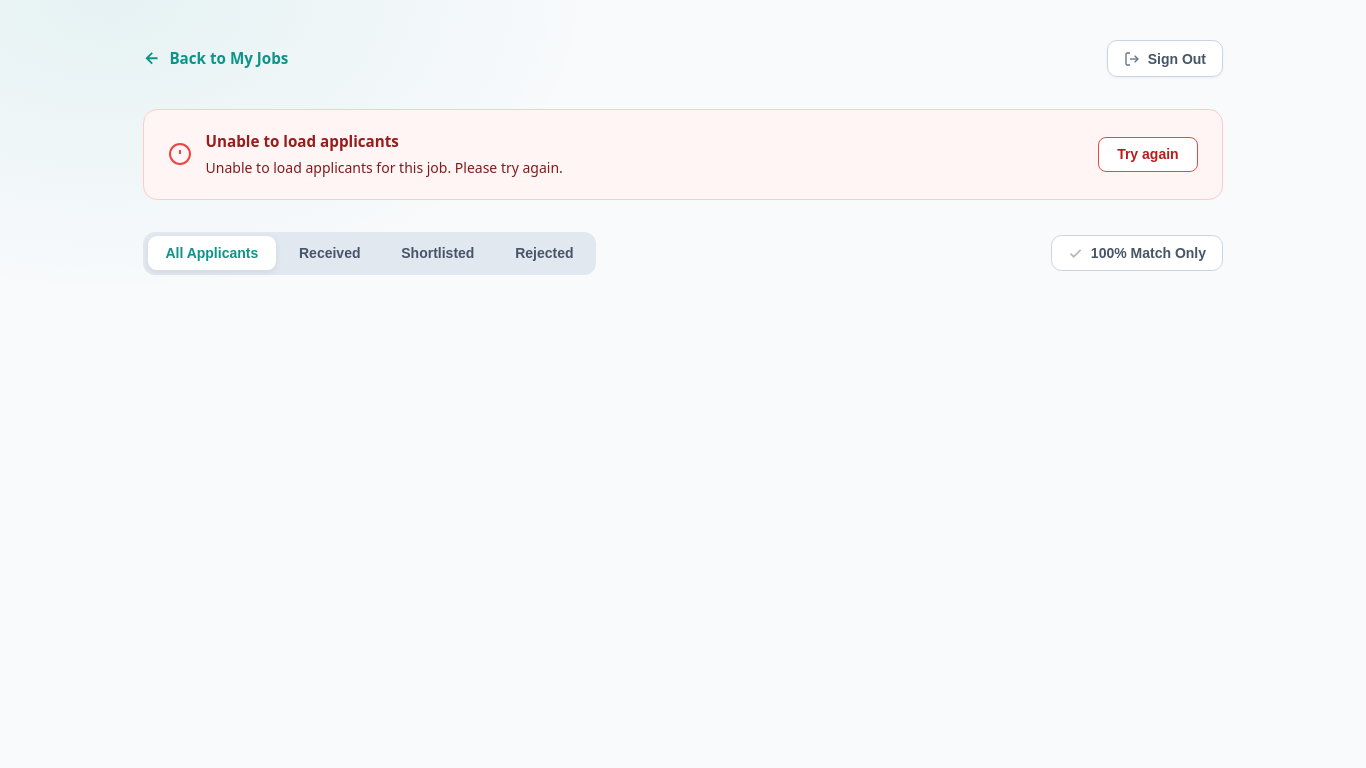
EmployerJobApplicantsComponent › displays error message and allows retry
The image size is (1366, 768).
Click the button with class "retry-button".
click(1148, 154)  # box [1098,137,1198,172]
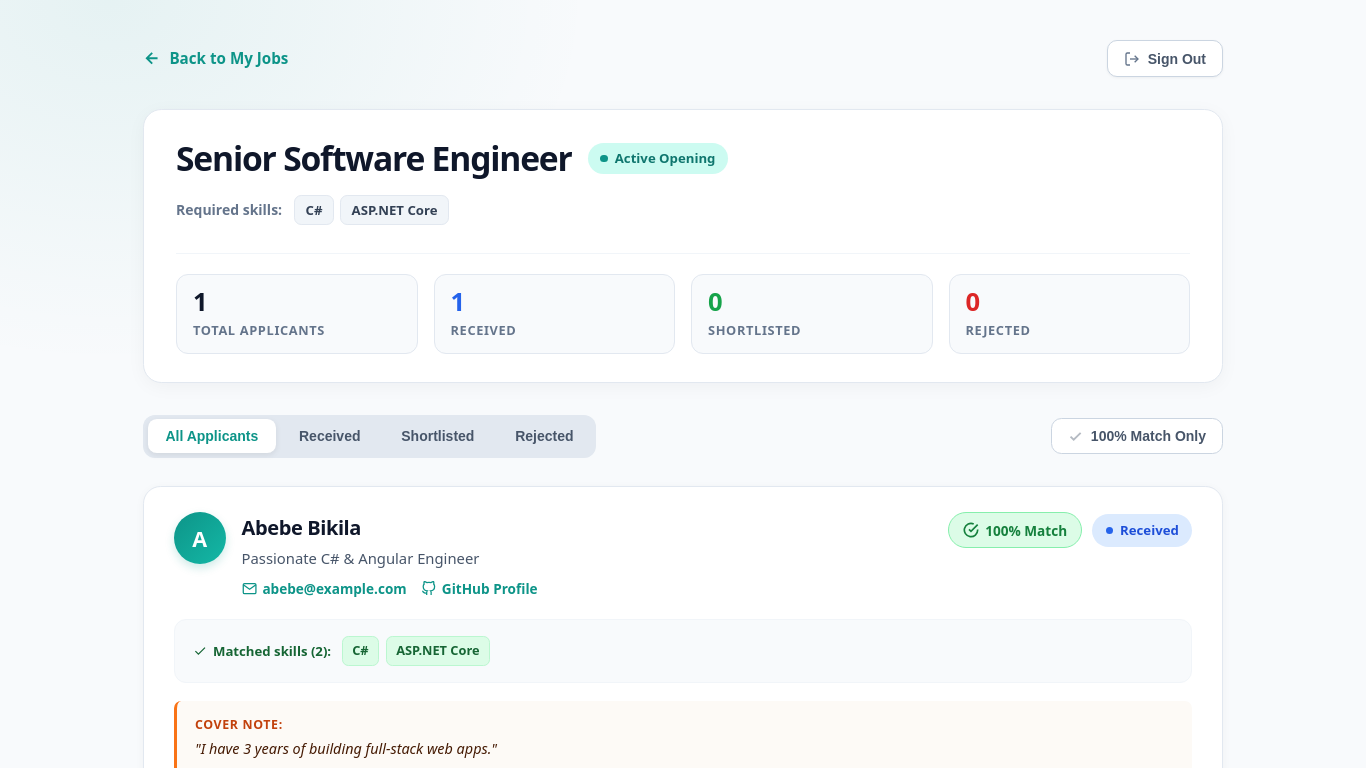
Result: the text "Senior Software Engineer" is shown at [176,138,572,178]
